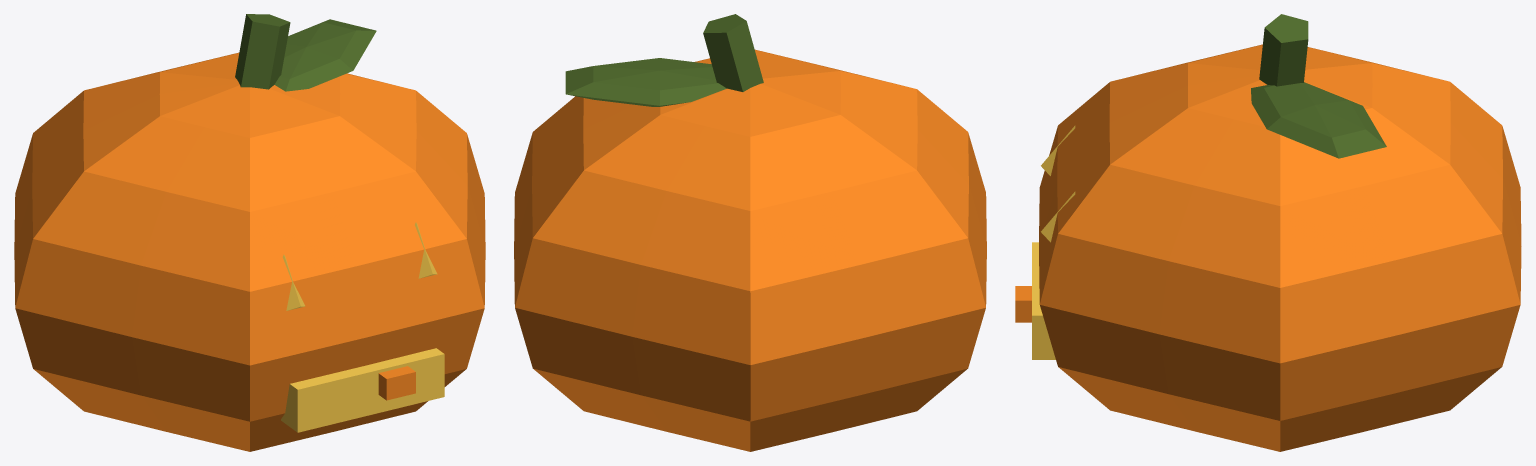
Rendered from JackOLantern.fbx.
3 renders of one model, left to right at view 1: azimuth 30°, elevation 25°; view 2: azimuth 150°, elevation 25°; view 3: azimuth 270°, elevation 25°, orthographic. The views are drawn at different scales.
Visible parts, largest first — view 1: JackOLantern, JackOLantern_Glow; view 2: JackOLantern; view 3: JackOLantern, JackOLantern_Glow.
Boxes of the visible parts, bbox=[...] form: JackOLantern: bbox=[14, 14, 485, 451]; JackOLantern_Glow: bbox=[281, 222, 444, 432]; JackOLantern: bbox=[514, 14, 986, 451]; JackOLantern: bbox=[1015, 14, 1521, 451]; JackOLantern_Glow: bbox=[1032, 125, 1075, 359].
Size of the model in its own units: 480 by 389 by 437.
1 material, 1 textured.
